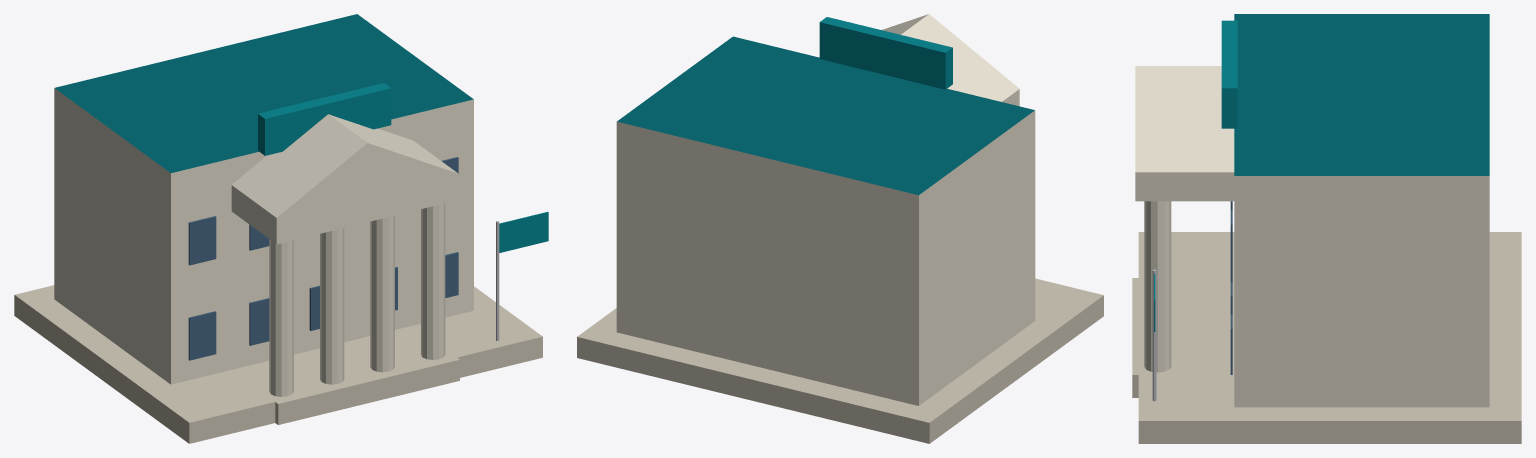
File: gov_min_transport.glb
The picture shows the model from 3 angles, left to right: view 1: azimuth 30°, elevation 25°; view 2: azimuth 150°, elevation 25°; view 3: azimuth 270°, elevation 25°; orthographic projection. The views are drawn at different scales.
Visible parts, largest first — view 1: box; view 2: box; view 3: box.
Boxes of the visible parts, left/top/right/bottom form: box: left=14, top=14, right=548, bottom=443; box: left=577, top=14, right=1103, bottom=443; box: left=1132, top=14, right=1521, bottom=443.
Size of the model in its own units: 14.5 by 10.2 by 12.2.
